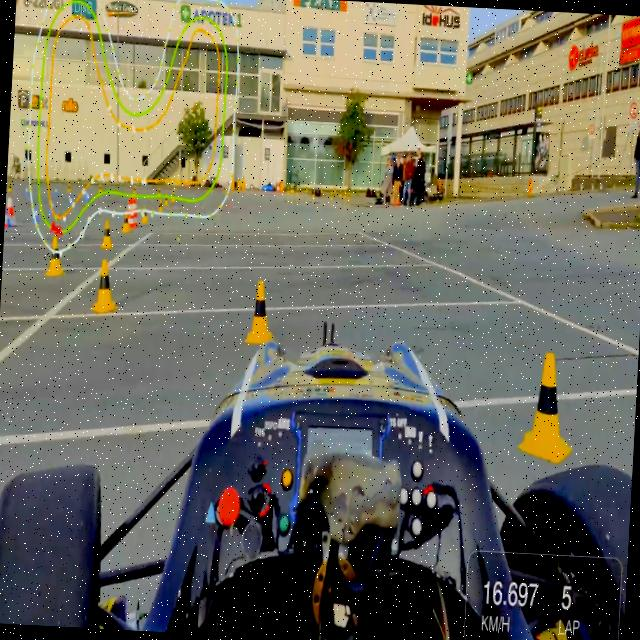blue_cone: (32, 205, 40, 225)
large_orange_cone: (5, 191, 18, 231), (130, 195, 140, 229), (127, 196, 134, 230)
yellow_cone: (518, 348, 578, 465), (244, 277, 277, 342), (92, 256, 119, 315), (46, 233, 65, 277), (100, 218, 114, 250), (141, 205, 149, 227), (122, 214, 130, 232), (162, 193, 168, 210), (170, 190, 177, 204), (158, 198, 164, 214), (132, 186, 138, 202), (156, 186, 162, 200)
